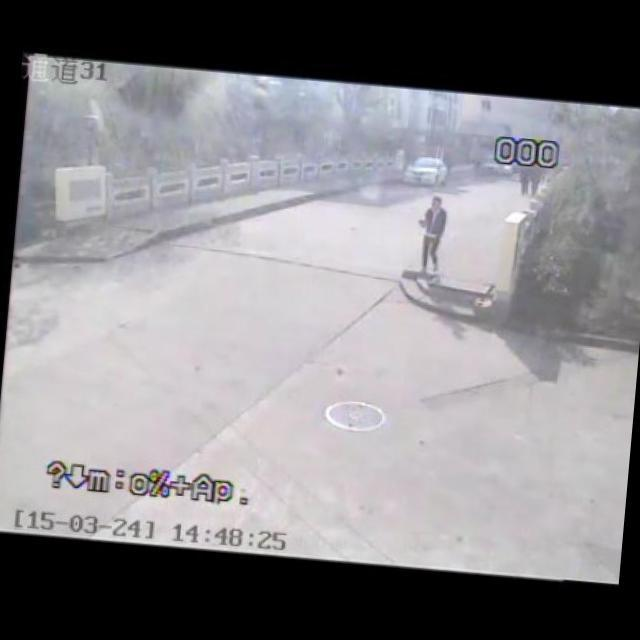person: (412, 190, 452, 272), (525, 164, 549, 195), (516, 159, 532, 200)
